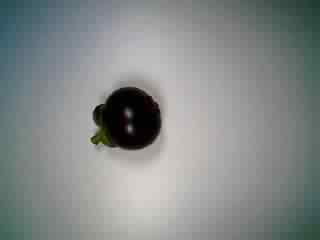mangosteen: (85, 84, 165, 154)
